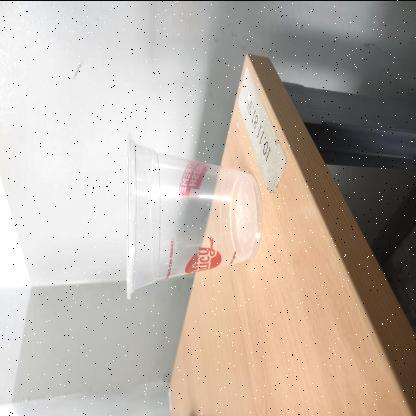Others: (124, 128, 262, 300)
